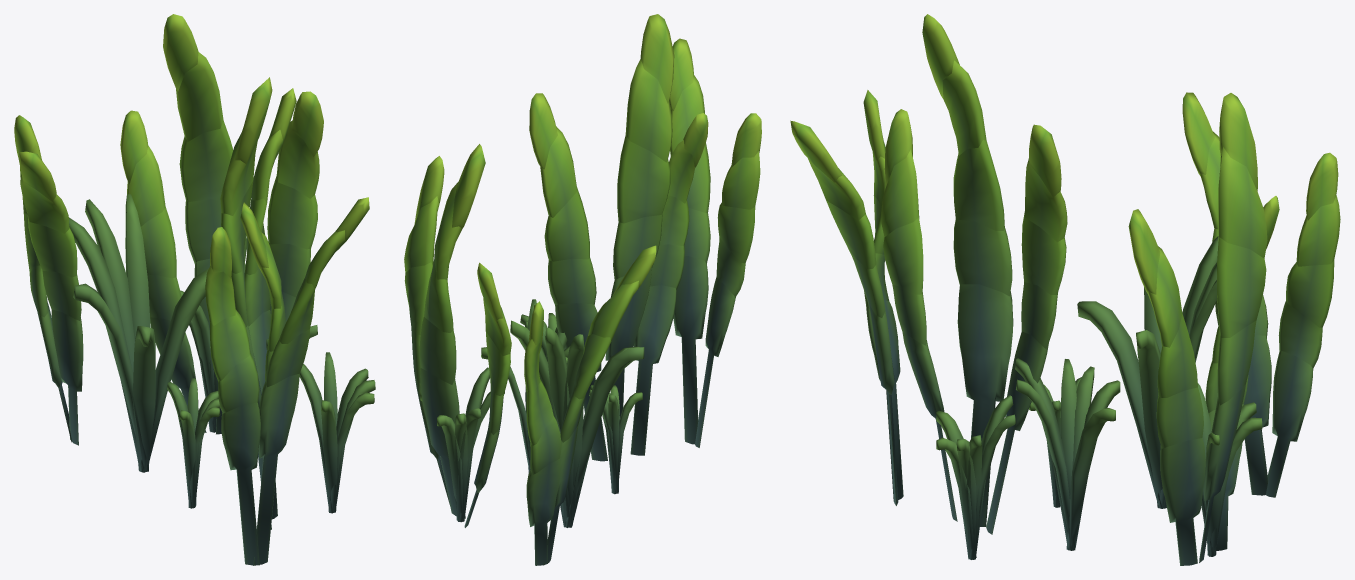
File: Moss_Group_01.fbx
3 views of the same model, side by side, from view 1: azimuth 30°, elevation 25°; view 2: azimuth 150°, elevation 25°; view 3: azimuth 270°, elevation 25° (orthographic). The views are drawn at different scales.
Parts seen in each view (by area): view 1: Moss_Group_01; view 2: Moss_Group_01; view 3: Moss_Group_01.
Boxes of the visible parts, bbox=[...] form: Moss_Group_01: bbox=[14, 14, 375, 565]; Moss_Group_01: bbox=[404, 14, 761, 565]; Moss_Group_01: bbox=[790, 14, 1340, 565].
Size of the model in its own units: 91.35 by 144 by 144.
